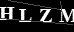H: (1, 6, 14, 21)
L: (17, 8, 33, 23)
M: (57, 8, 74, 22)
Z: (38, 8, 53, 23)
